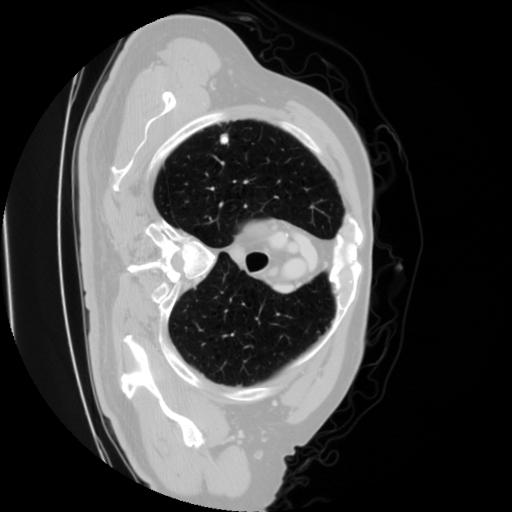nodule: (218, 133, 236, 151)
